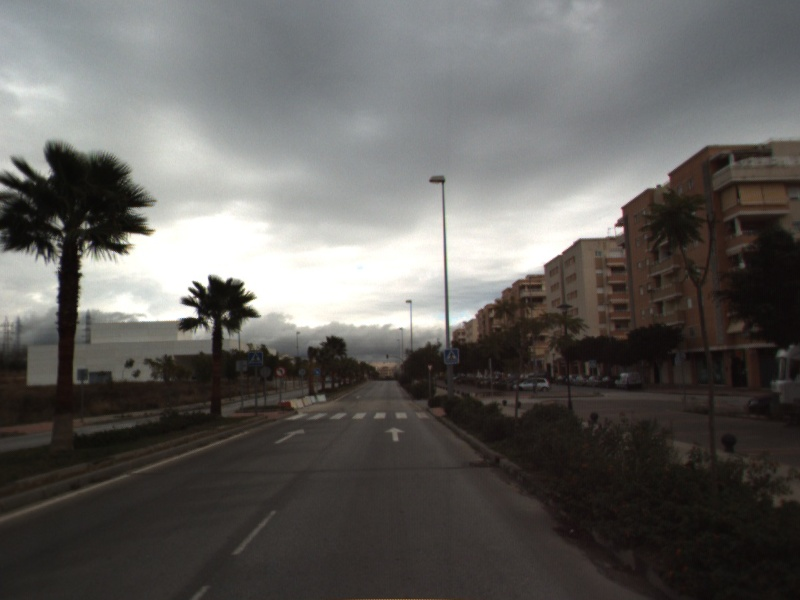STRAIGHT: (272, 426, 307, 445), (383, 425, 407, 443)
